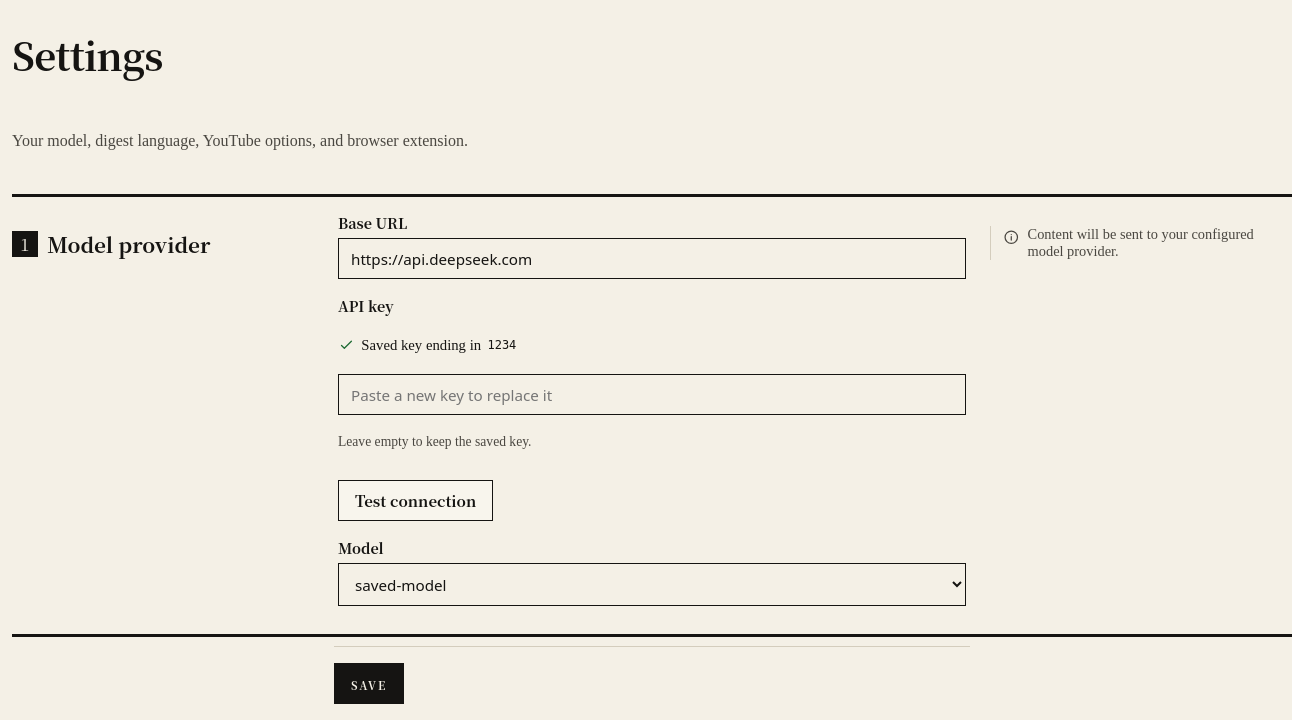
model settings › loads stored images off and preserves off when saving without changing it
The image size is (1292, 720).
Click the button "Save": (369, 684) [334, 663, 404, 704]
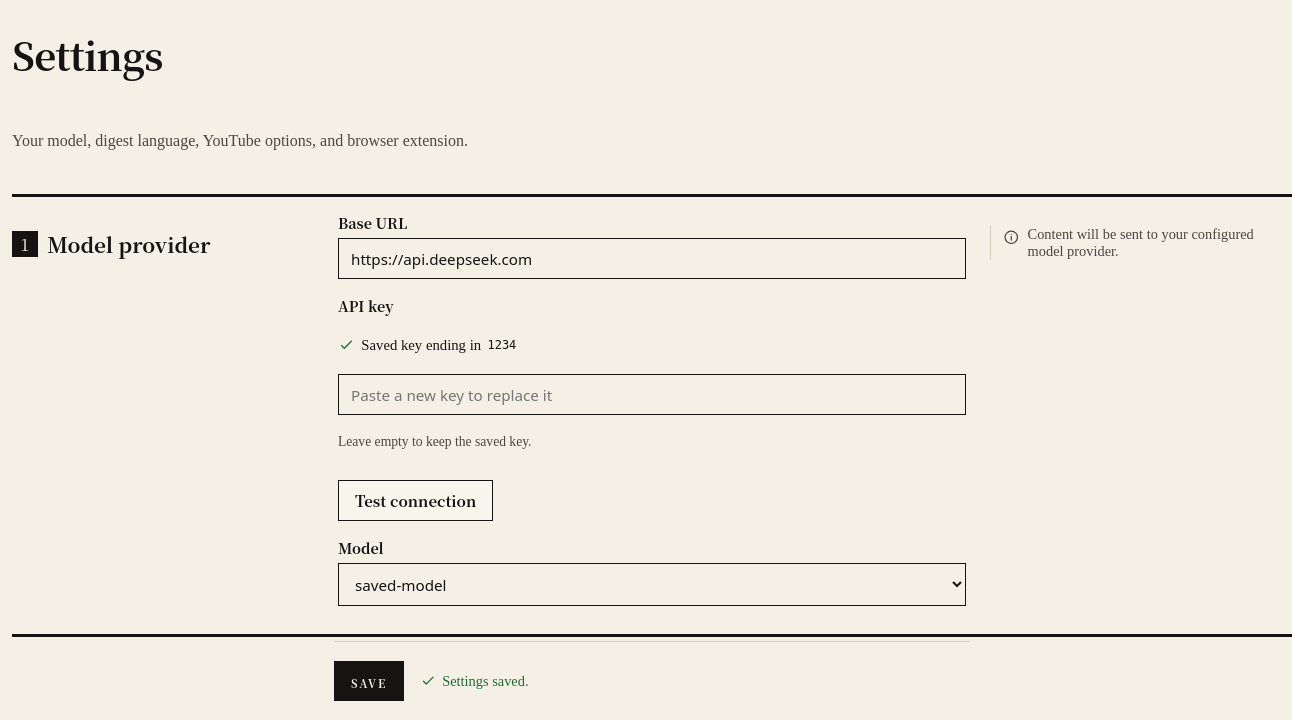
Expected: the text "Settings saved." is shown, [420, 673, 529, 690]
